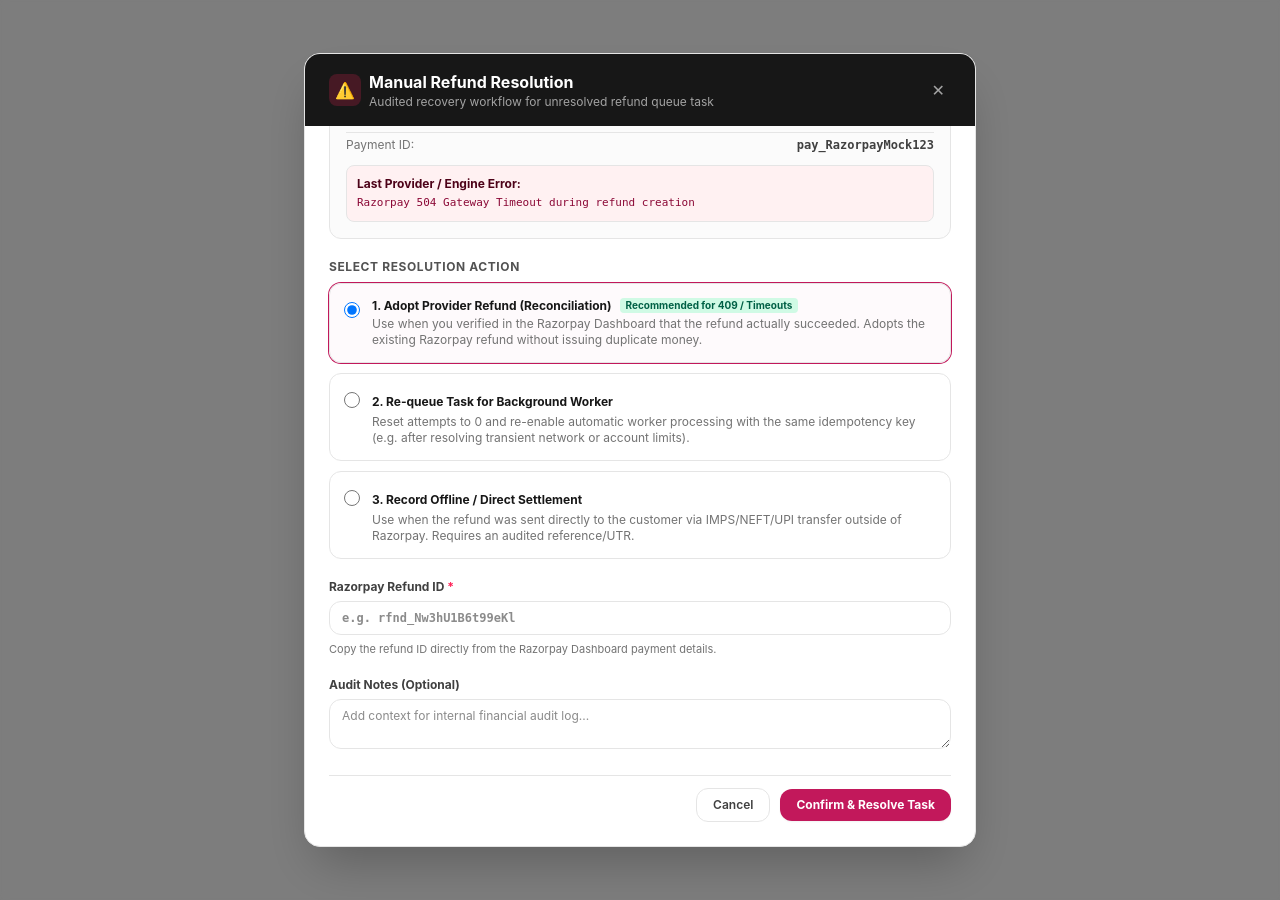
Test: RefundManualReviewModal (Financial Recovery & Invariants) › requires Razorpay Refund ID when adopting provider refund
The width and height of the screenshot is (1280, 900).
(page scrolled)
Expected: the field with placeholder "e.g. rfnd_Nw3hU1B6t99eKl" is shown, [329,601,951,635]
Note: Leave input empty and submit
Click the button "Confirm & Resolve Task" at (866, 805), box [780,789,951,821]
(page scrolled)
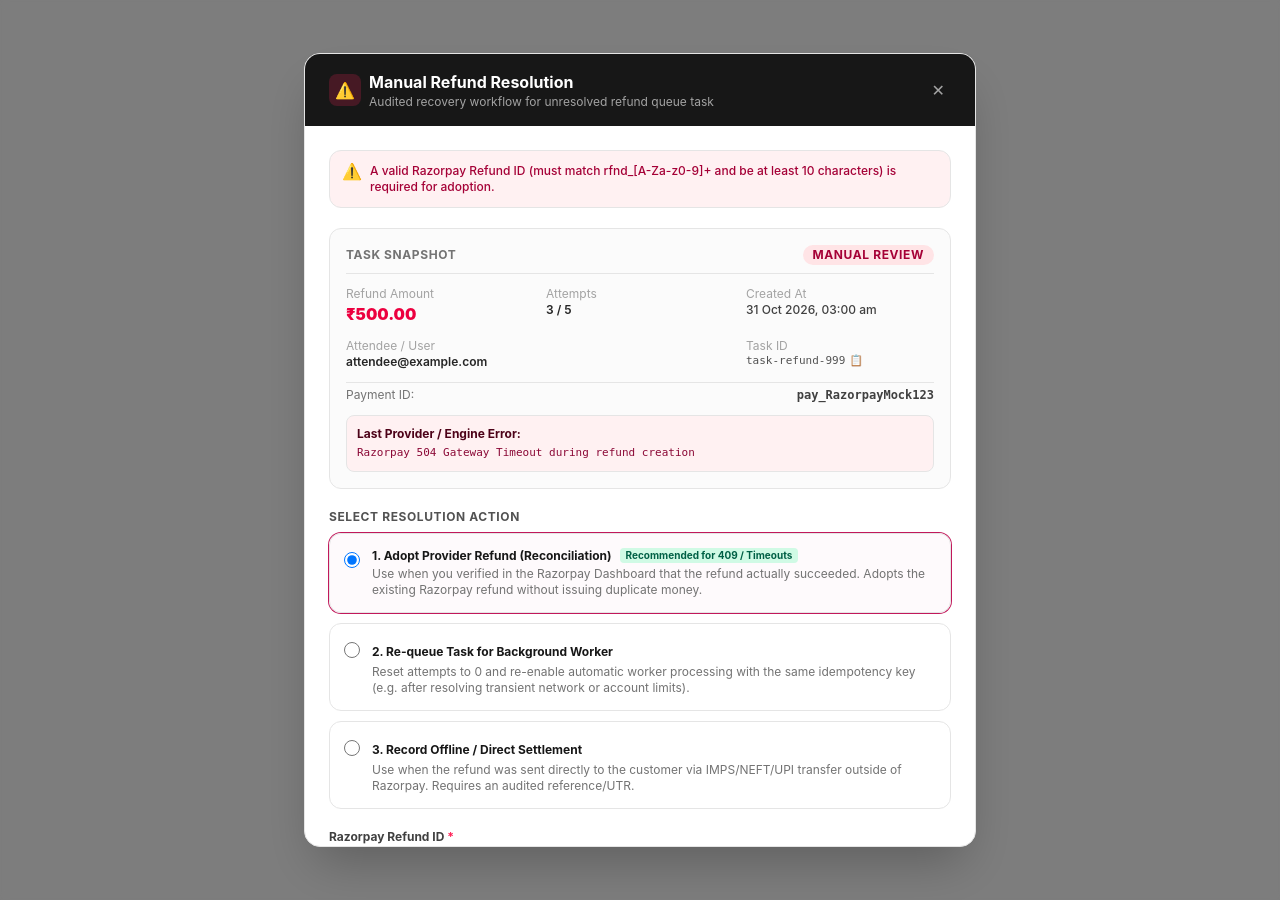
Expected: the text "A valid Razorpay Refund ID" is shown, [370,163,896,194]
